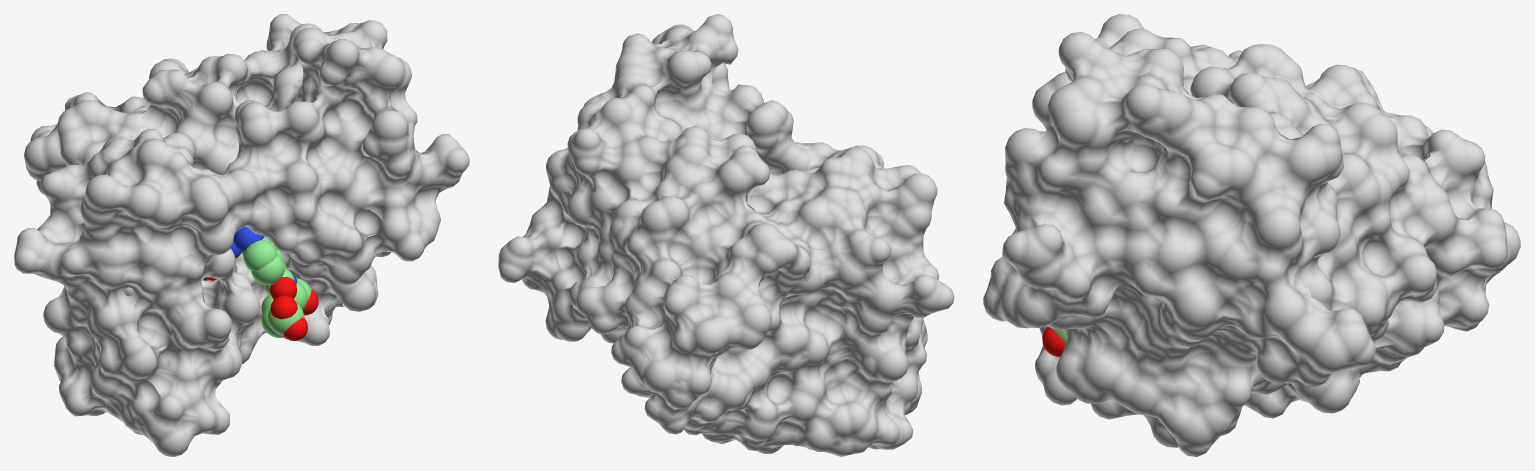
The model's file is folen.dae.
3 renders of one model, left to right at view 1: azimuth 30°, elevation 25°; view 2: azimuth 150°, elevation 25°; view 3: azimuth 270°, elevation 25°, orthographic. The views are drawn at different scales.
Parts seen in each view (by area): view 1: subnode_32, subnode_16, subnode_15, subnode_28, subnode_26, subnode_21, subnode_13; view 2: subnode_32; view 3: subnode_32.
Boxes of the visible parts, left/top/right/bottom form: subnode_32: left=14, top=14, right=469, bottom=456; subnode_16: left=243, top=240, right=277, bottom=271; subnode_15: left=251, top=254, right=284, bottom=285; subnode_28: left=270, top=295, right=297, bottom=319; subnode_26: left=268, top=303, right=304, bottom=335; subnode_21: left=269, top=277, right=297, bottom=299; subnode_13: left=233, top=226, right=264, bottom=252; subnode_32: left=498, top=14, right=954, bottom=456; subnode_32: left=983, top=14, right=1520, bottom=456.
Bounding box in the file's own units: 47.21 × 41.09 × 43.03.
